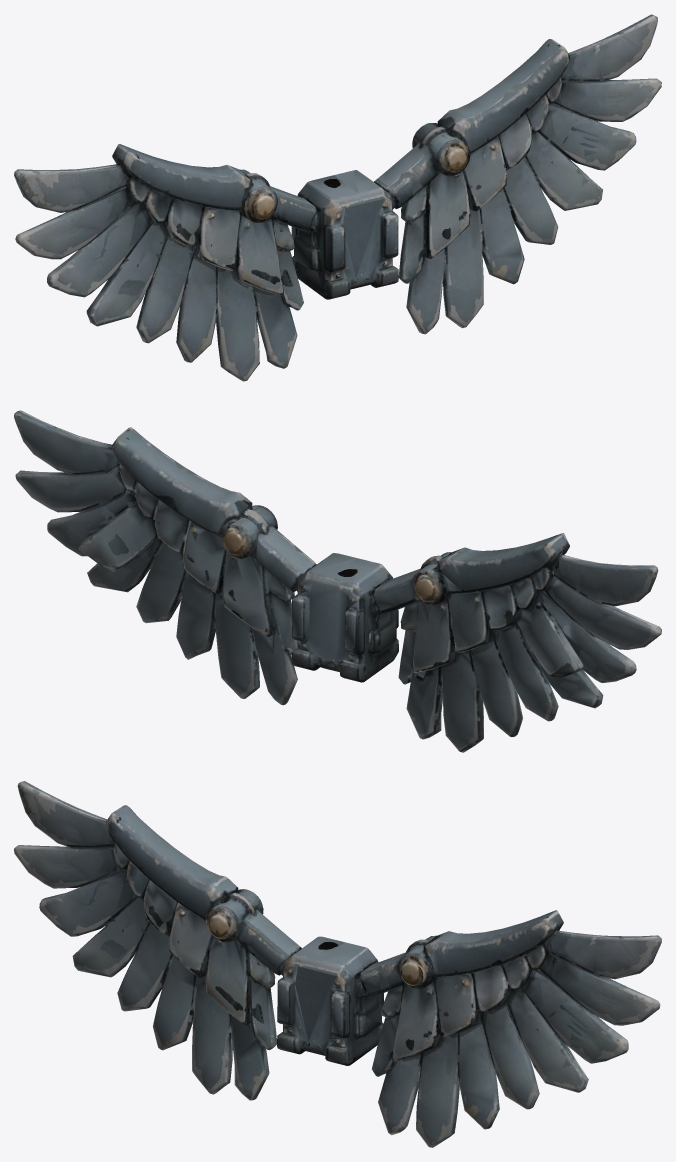
The model's file is wings.glb.
3 views of the same model, one above another, from view 1: azimuth 30°, elevation 25°; view 2: azimuth 150°, elevation 25°; view 3: azimuth 330°, elevation 25° (orthographic).
Parts seen in each view (by area): view 1: wingL, wingR, hub; view 2: wingR, wingL, hub; view 3: wingR, wingL, hub.
Part boxes in pixels (<box>): wingL: <box>14,144,317,381</box>; wingR: <box>378,14,661,334</box>; hub: <box>291,170,398,299</box>; wingR: <box>14,410,312,705</box>; wingL: <box>373,533,661,752</box>; hub: <box>291,553,398,682</box>; wingR: <box>358,910,661,1147</box>; wingL: <box>14,781,297,1100</box>; hub: <box>277,936,383,1065</box>.
Size of the model in its own units: 0.9796 by 0.3616 by 0.1087.
1 material, 1 textured.
